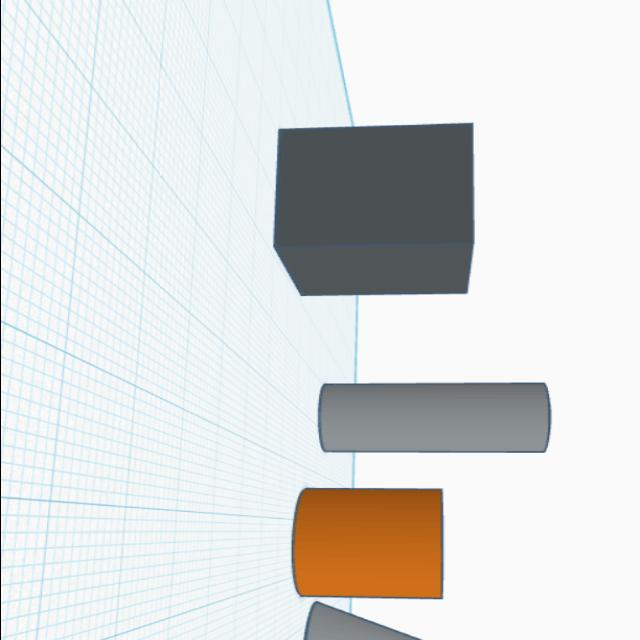cone: (298, 598, 470, 640)
cube: (265, 122, 477, 299)
